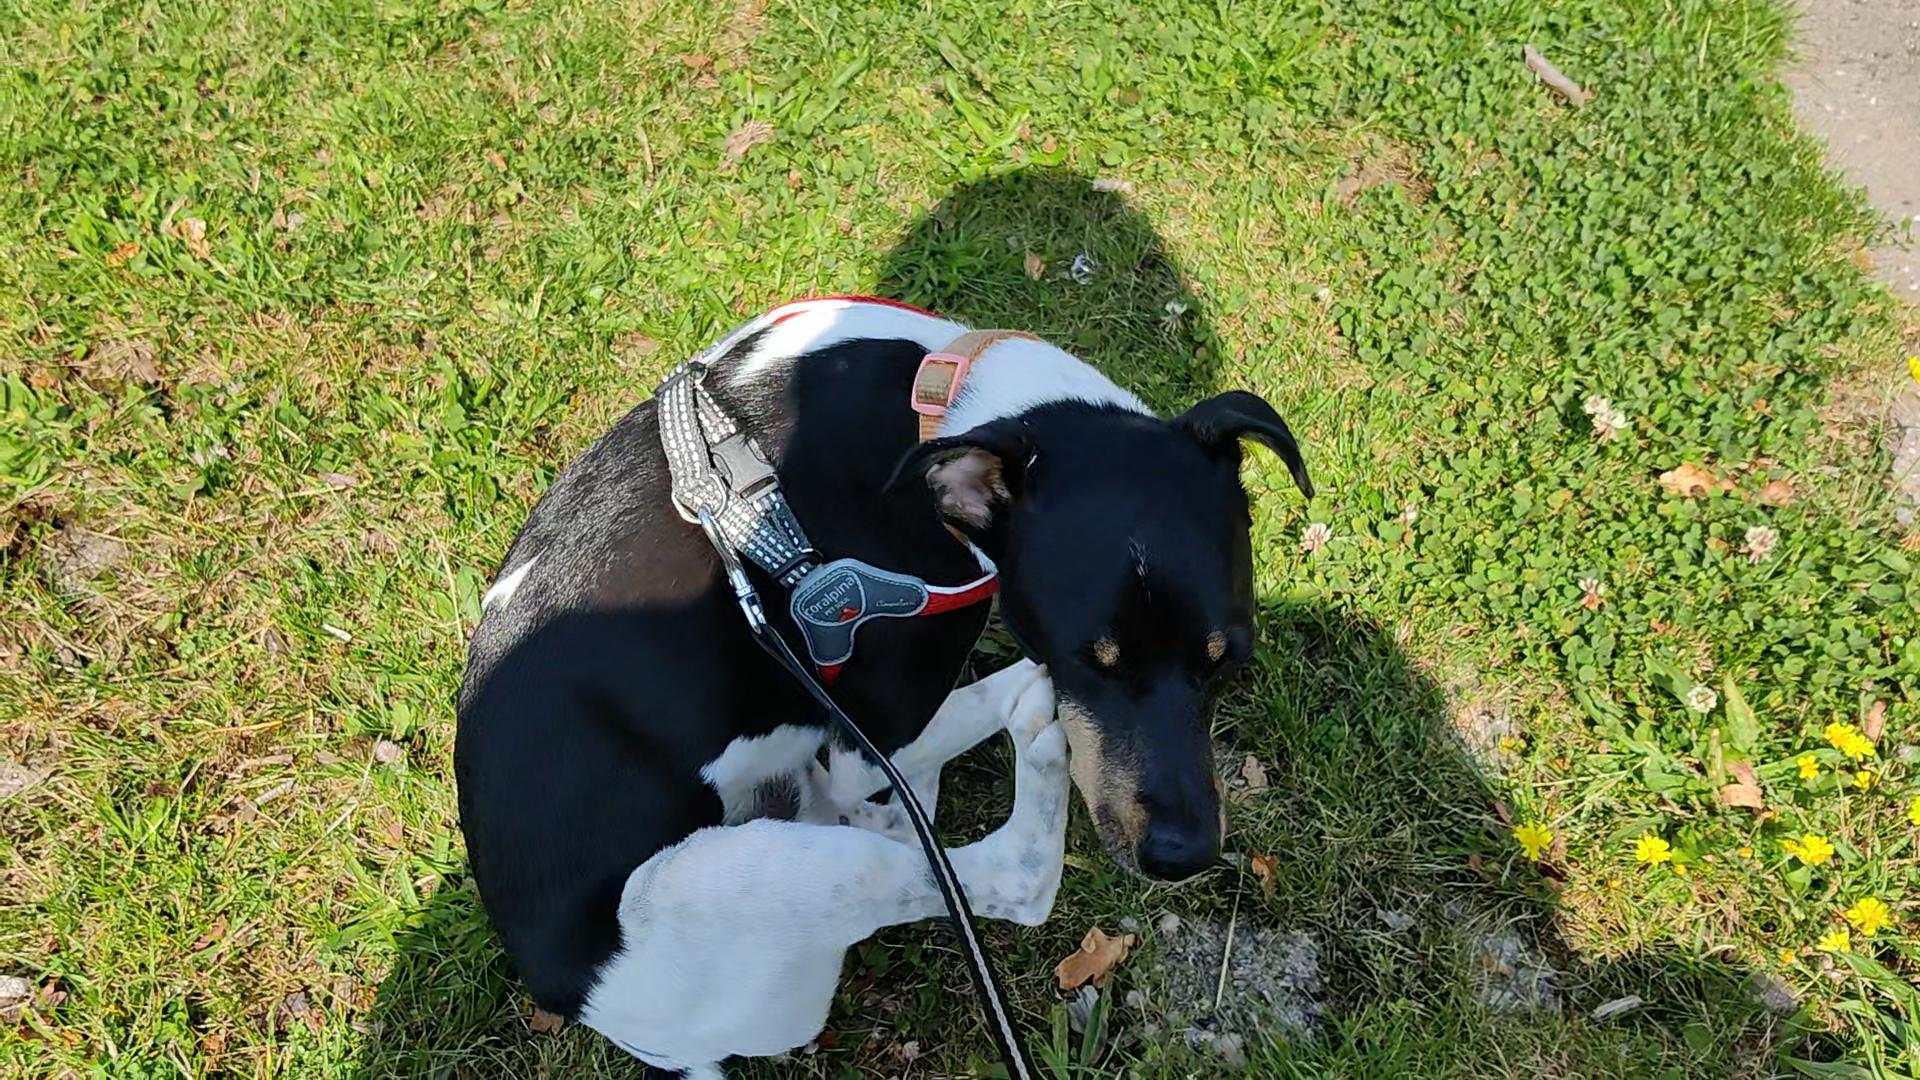Dog: (444, 245, 1331, 1079)
